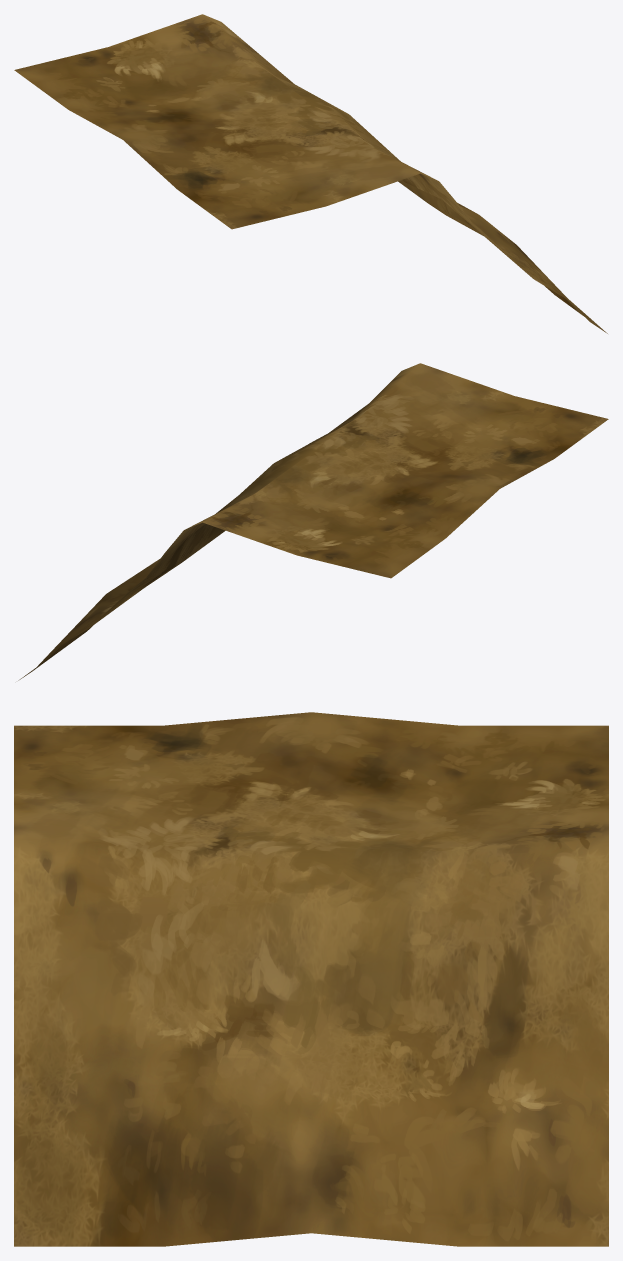
Rendered from Levelled_Slope_004.fbx.
3 views of the same model, one above another, from view 1: azimuth 30°, elevation 25°; view 2: azimuth 150°, elevation 25°; view 3: azimuth 270°, elevation 25° (orthographic). The views are drawn at different scales.
Parts seen in each view (by area): view 1: Levelled_Slope_004; view 2: Levelled_Slope_004; view 3: Levelled_Slope_004.
Part boxes in pixels (bbox=[...]): Levelled_Slope_004: bbox=[14, 14, 607, 333]; Levelled_Slope_004: bbox=[18, 363, 608, 680]; Levelled_Slope_004: bbox=[14, 712, 608, 1246].
Bounding box in the file's own units: 10 × 5.25 × 10.
1 material, 1 textured.
